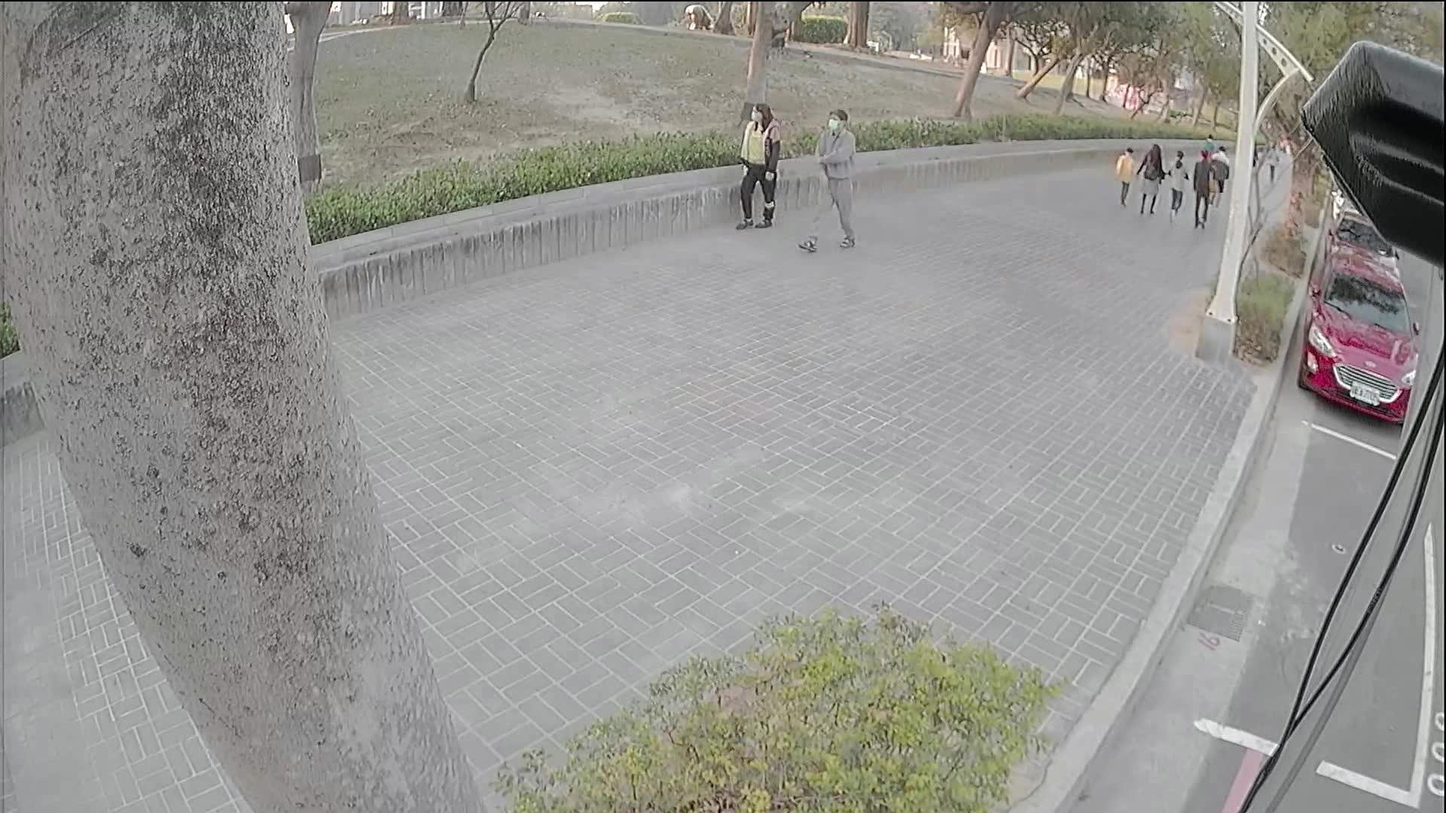person: (819, 110, 859, 252), (737, 102, 782, 228), (1189, 146, 1215, 227), (1164, 148, 1190, 221), (1139, 142, 1164, 212), (1210, 140, 1231, 211), (1113, 147, 1139, 202)
